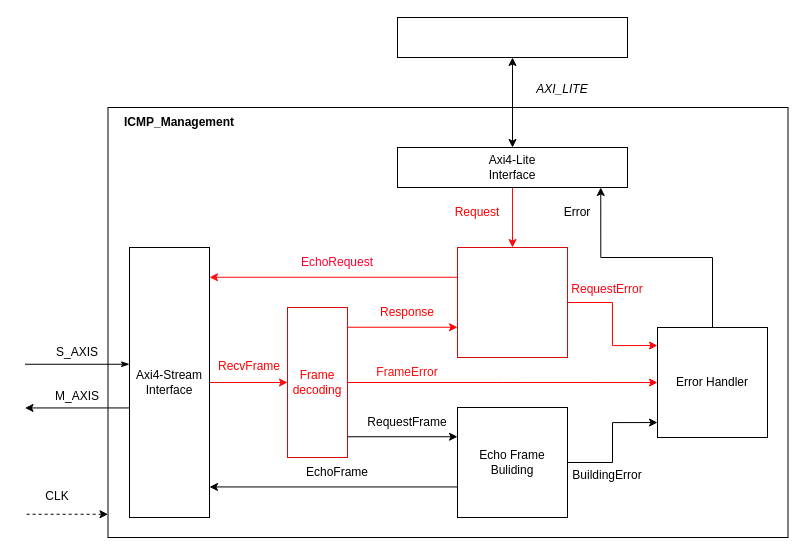
Some shapes in this 805 by 555 pixel diagram are drawn without their labels. Each missing label, with the centre of its shape:
"Registers" belongs at [512,37].
"Send Echo Request" belongs at [512,302].
